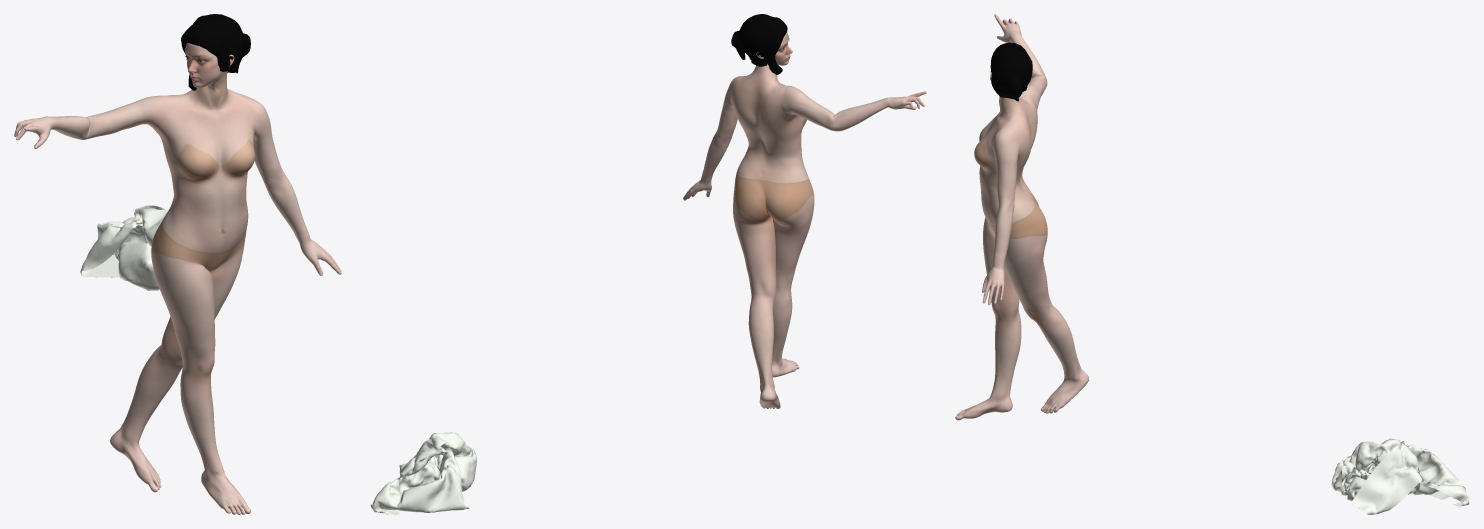
The model's file is Dramatic.obj.
3 renders of one model, left to right at view 1: azimuth 30°, elevation 25°; view 2: azimuth 150°, elevation 25°; view 3: azimuth 270°, elevation 25°, orthographic. The views are drawn at different scales.
Size of the model in its own units: 1723 by 1775 by 2183.
